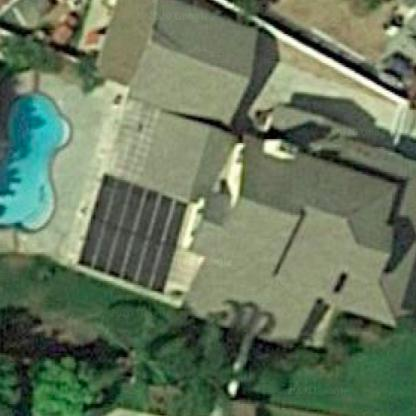solar_panel: (77, 164, 188, 305)
swimming_pool: (2, 78, 75, 239)
